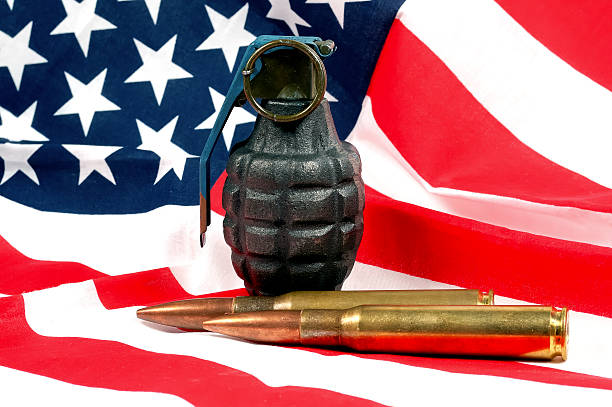e1: (198, 31, 366, 294)
